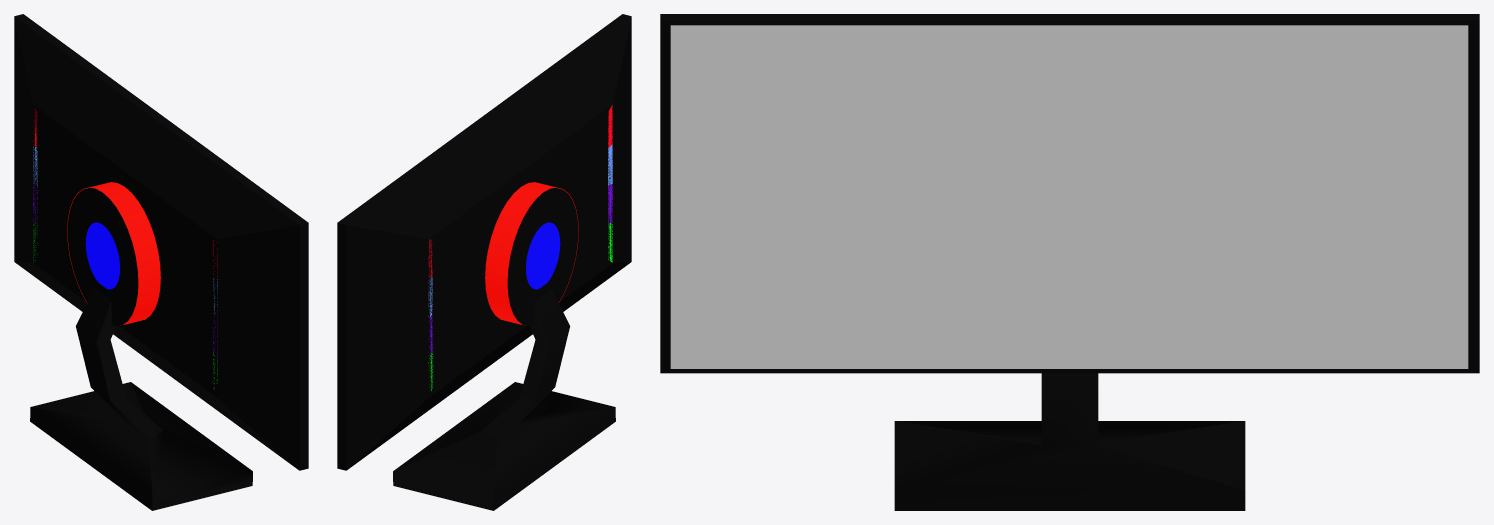
The model's file is Monitor.glb.
3 renders of one model, left to right at view 1: azimuth 30°, elevation 25°; view 2: azimuth 150°, elevation 25°; view 3: azimuth 270°, elevation 25°, orthographic. The views are drawn at different scales.
Visible parts, largest first — view 1: body.001, body.002, body, light, light.002, light.001; view 2: body.001, body.002, body, light, light.002, light.001; view 3: screen, body.002, body.001.
Boxes of the visible parts, bbox=[...] form: body.001: bbox=[14, 14, 308, 470]; body.002: bbox=[30, 289, 252, 510]; body: bbox=[67, 187, 138, 325]; light: bbox=[67, 182, 160, 324]; light.002: bbox=[85, 222, 119, 289]; light.001: bbox=[33, 109, 217, 388]; body.001: bbox=[337, 14, 631, 470]; body.002: bbox=[393, 289, 615, 510]; body: bbox=[507, 187, 578, 325]; light: bbox=[485, 182, 578, 324]; light.002: bbox=[526, 222, 560, 289]; light.001: bbox=[428, 105, 612, 390]; screen: bbox=[670, 25, 1468, 368]; body.002: bbox=[894, 373, 1245, 510]; body.001: bbox=[660, 14, 1479, 373].
Bounding box in the file's own units: 0.9004 × 2.68 × 4.21.
